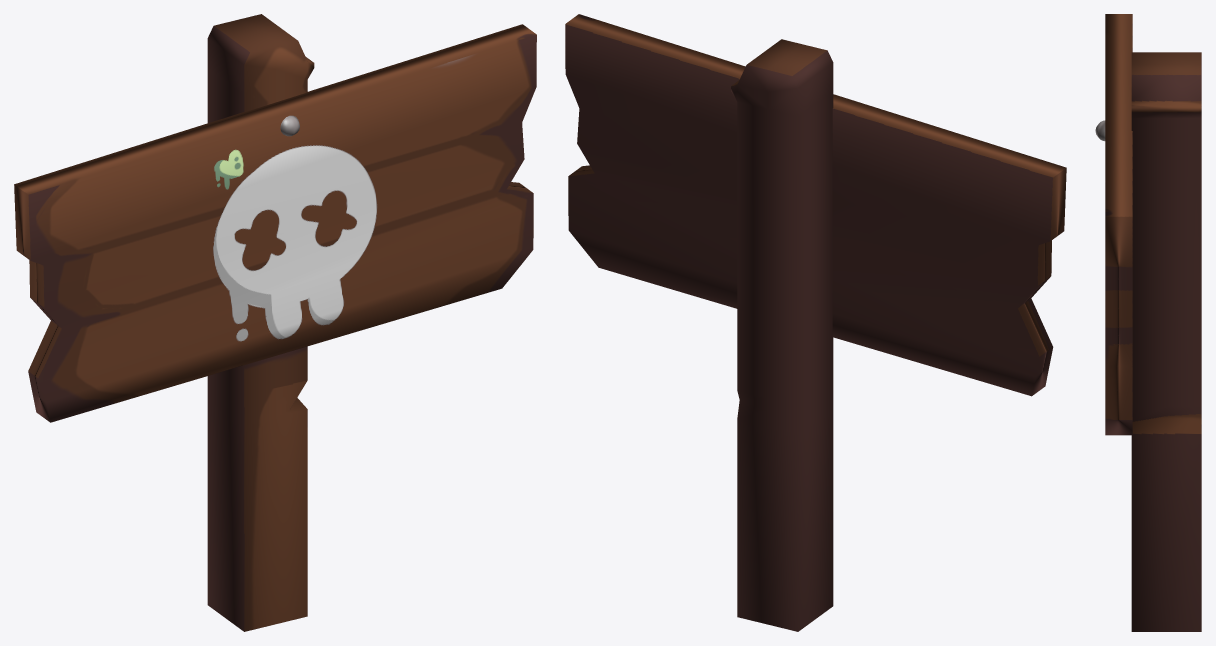
Rendered from Sign.fbx.
3 renders of one model, left to right at view 1: azimuth 30°, elevation 25°; view 2: azimuth 150°, elevation 25°; view 3: azimuth 270°, elevation 25°, orthographic. The views are drawn at different scales.
Parts seen in each view (by area): view 1: Sign, Pole; view 2: Sign, Pole; view 3: Pole, Sign, Nut.
Boxes of the visible parts, box(x1,y1,x2,y2) form: Sign: box(14, 24, 536, 422); Pole: box(207, 14, 314, 631); Sign: box(565, 14, 1066, 396); Pole: box(731, 39, 833, 631); Pole: box(1131, 52, 1201, 631); Sign: box(1105, 14, 1132, 435); Nut: box(1095, 120, 1105, 141).
Size of the model in its own units: 8.02 by 8.71 by 1.52.
Materials: 1 (1 with a texture image).
